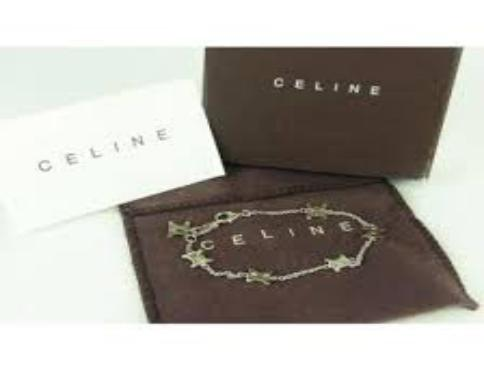CELINE: (272, 66, 380, 99)
